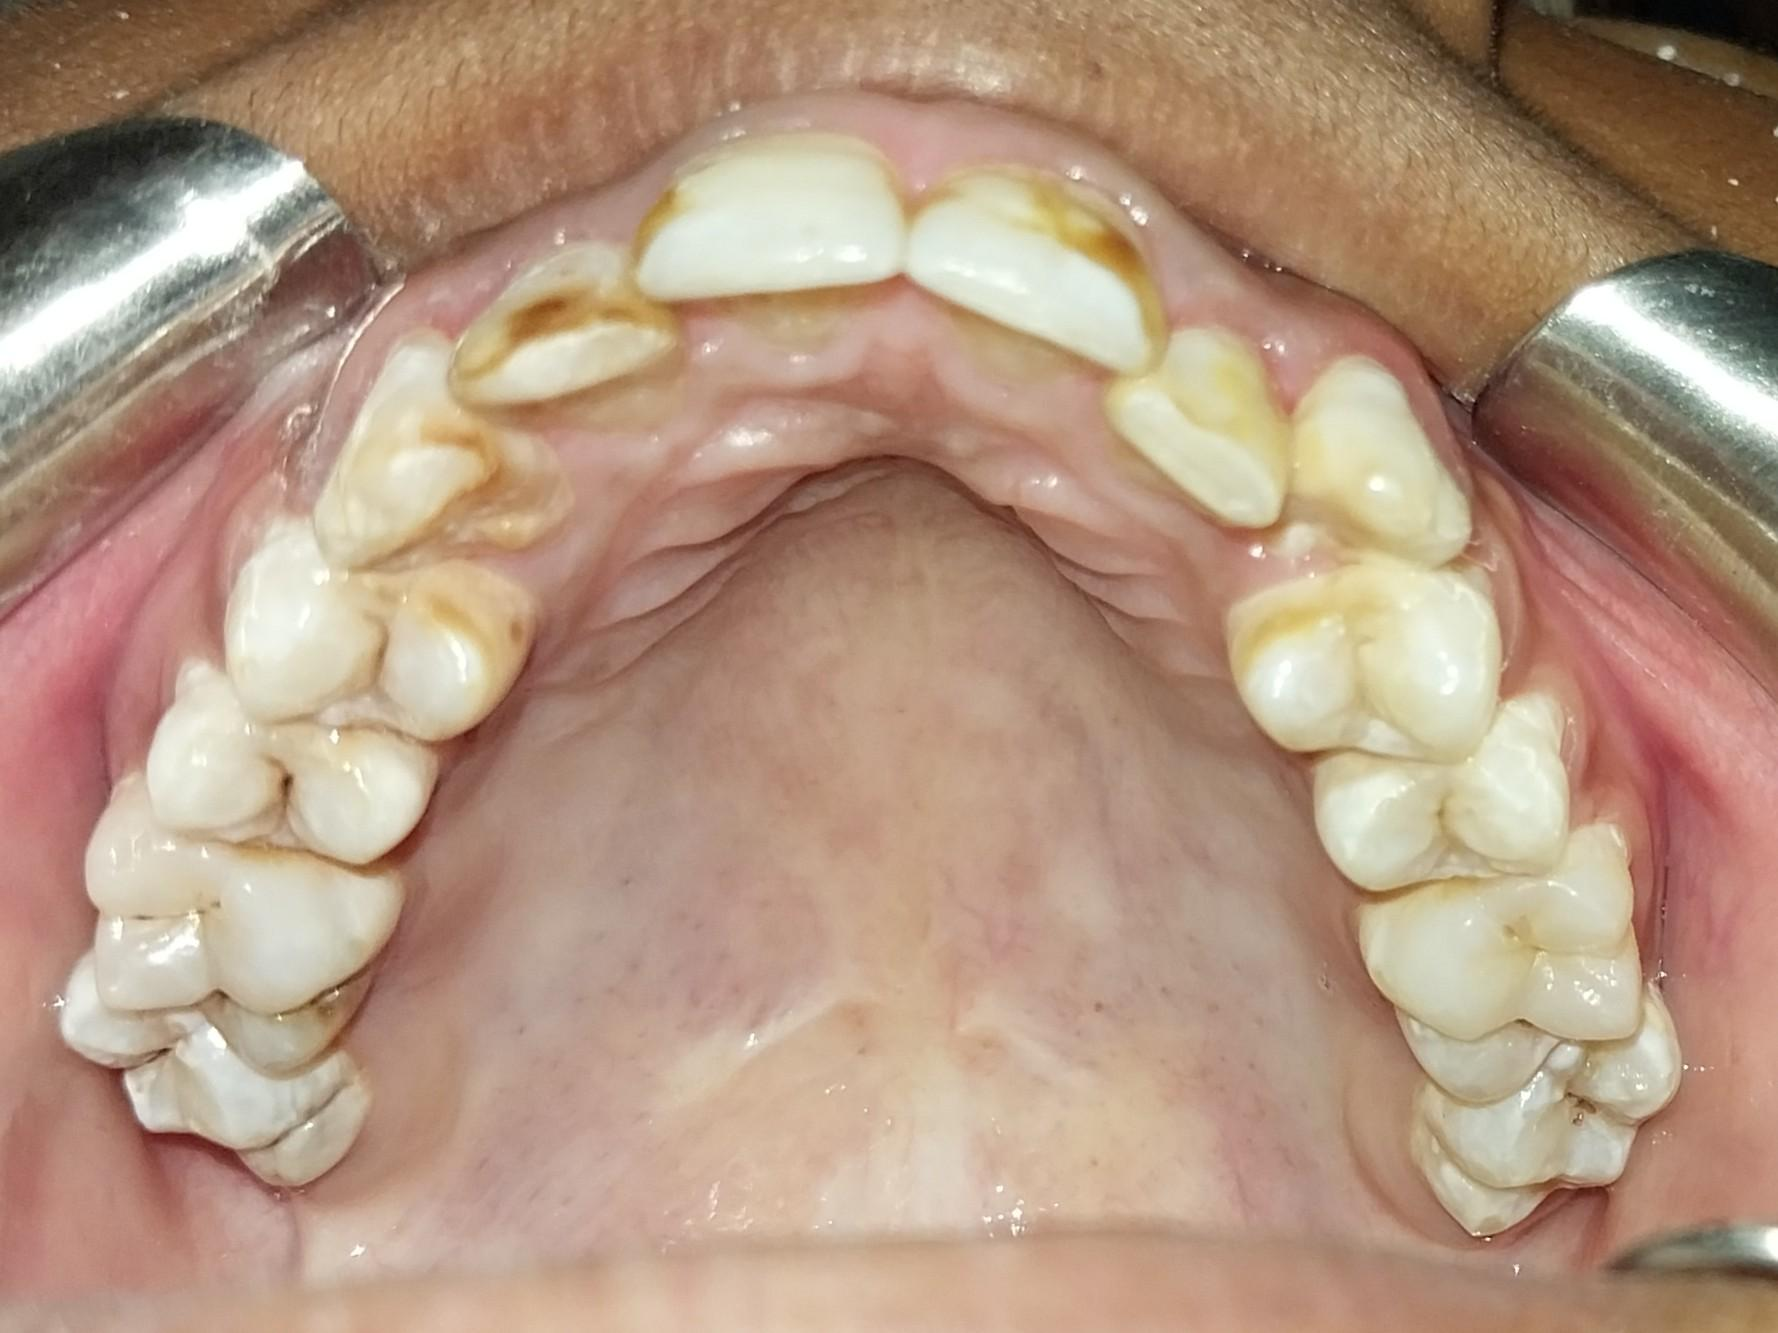D: (73, 818, 387, 1072), (145, 693, 434, 863), (1443, 1013, 1675, 1183)
